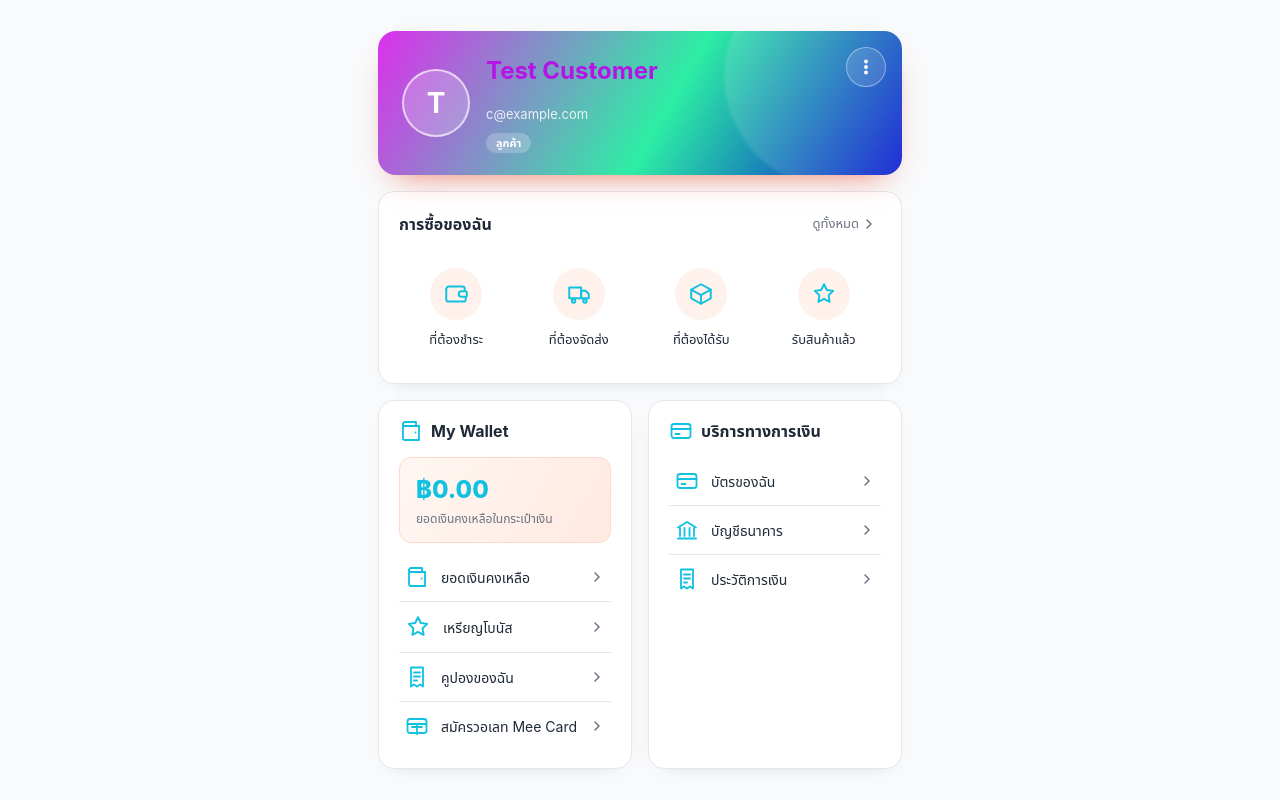
Scenario: Account -> Order Modal -> KBZPay Popup integration › รับสินค้าแล้ว modal shows an empty state when no delivered orders exist
Click the button "รับสินค้าแล้ว" at [824, 308], box [766,252,881,365]
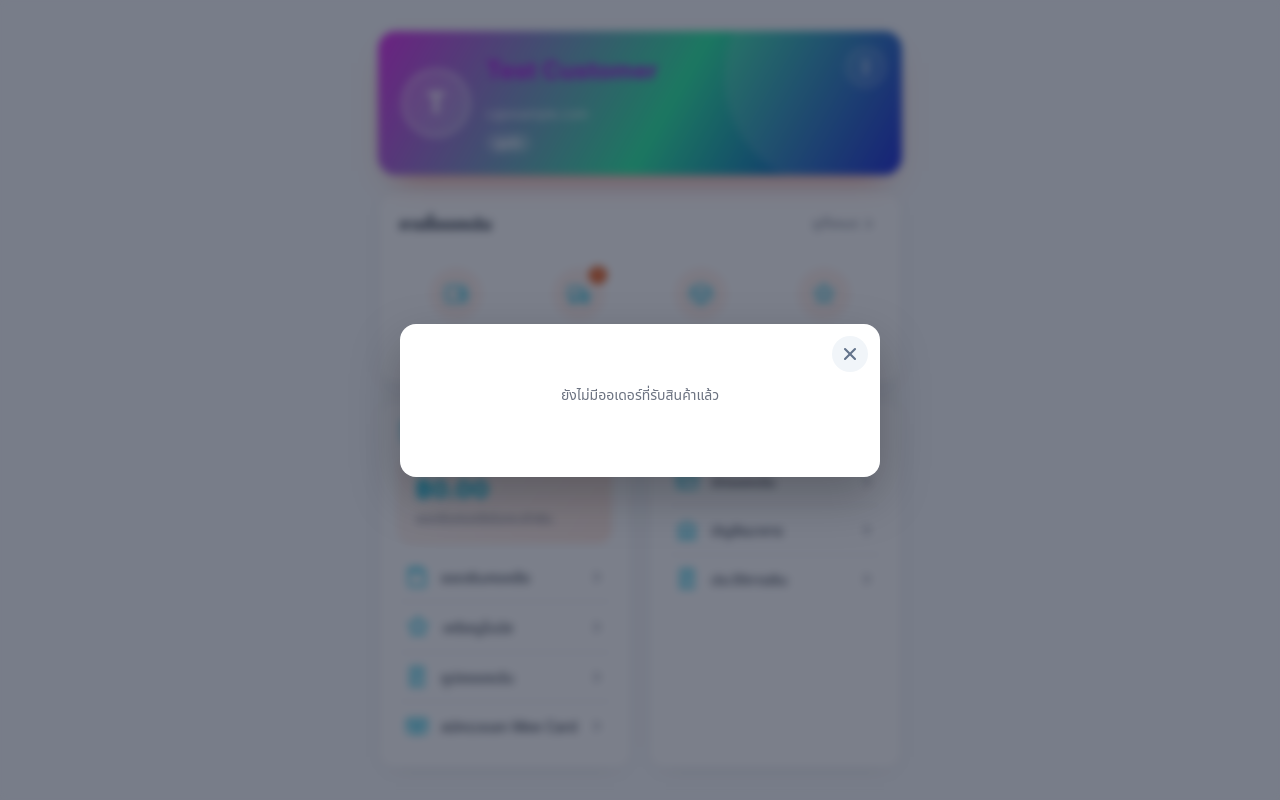
expect the text "ยังไม่มีออเดอร์ที่รับสินค้าแล้ว" is shown: met, box [561,386,719,402]
